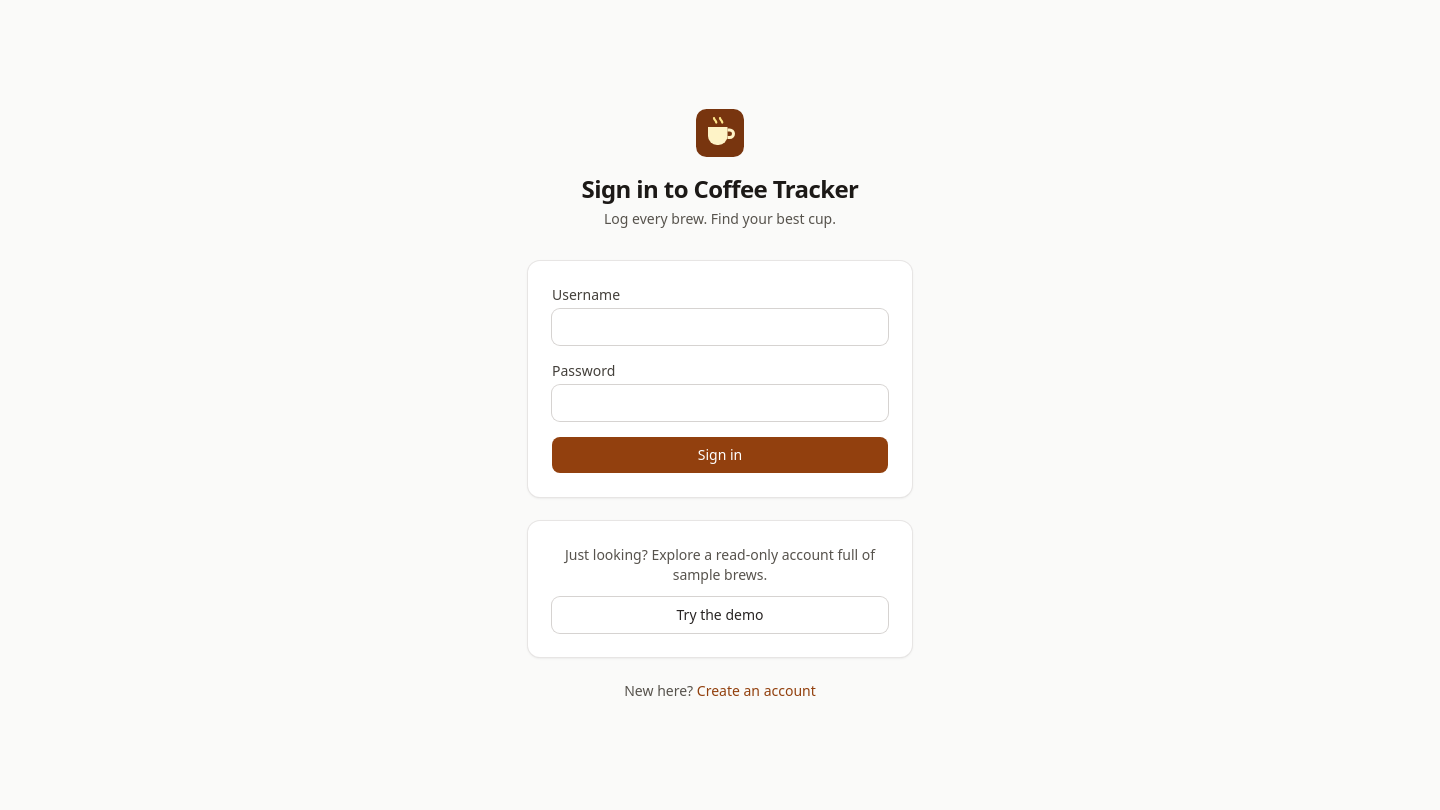
Test case: authentication › logs in, stores the token, and returns to the page originally requested
Type "alice" into the field labelled "Username" at [720, 327], box [552,309,888,345]
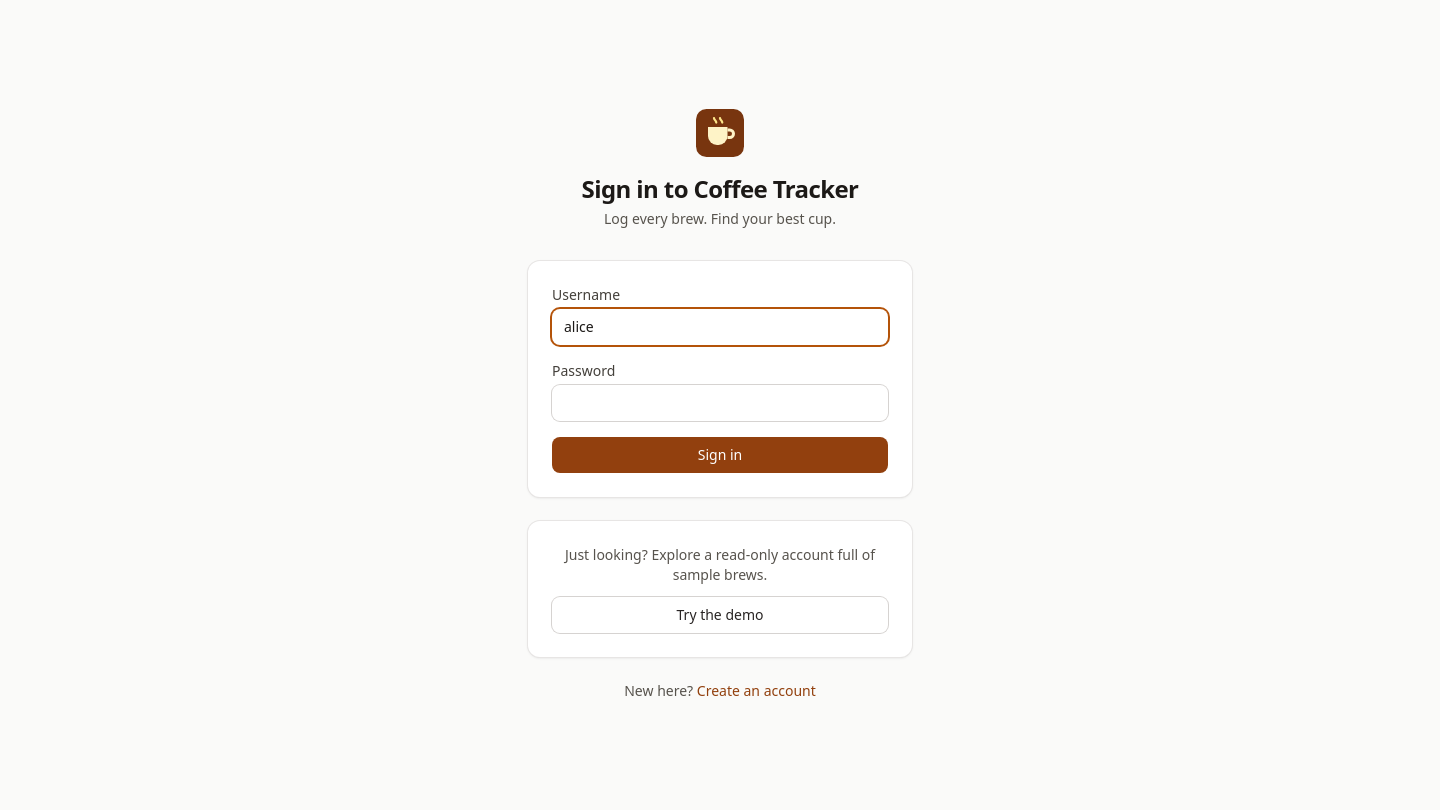
Type "correct-horse" into the password field labelled "Password" at [720, 403], box [552,385,888,421]
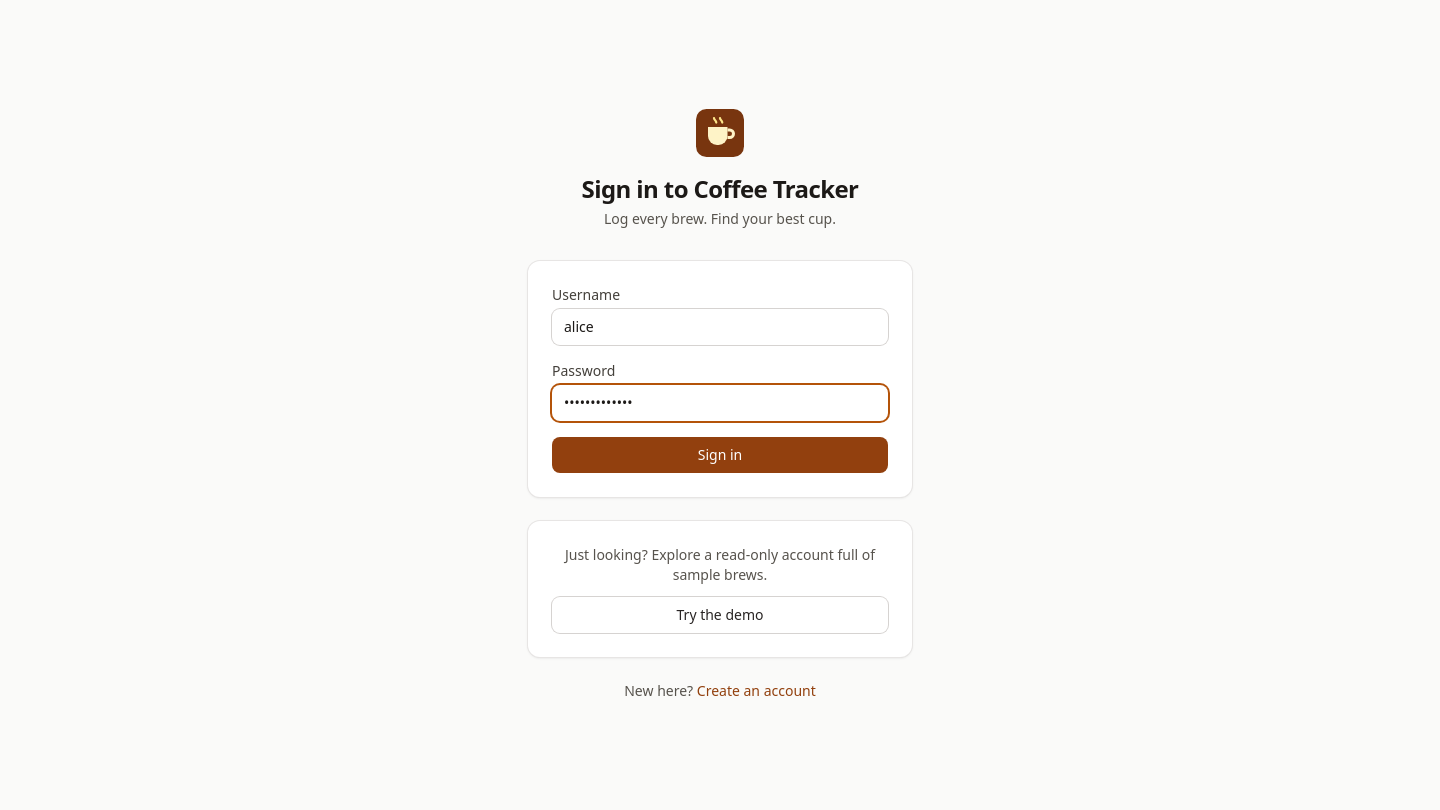
Click the button "Sign in" at [720, 455], box [552,437,888,473]
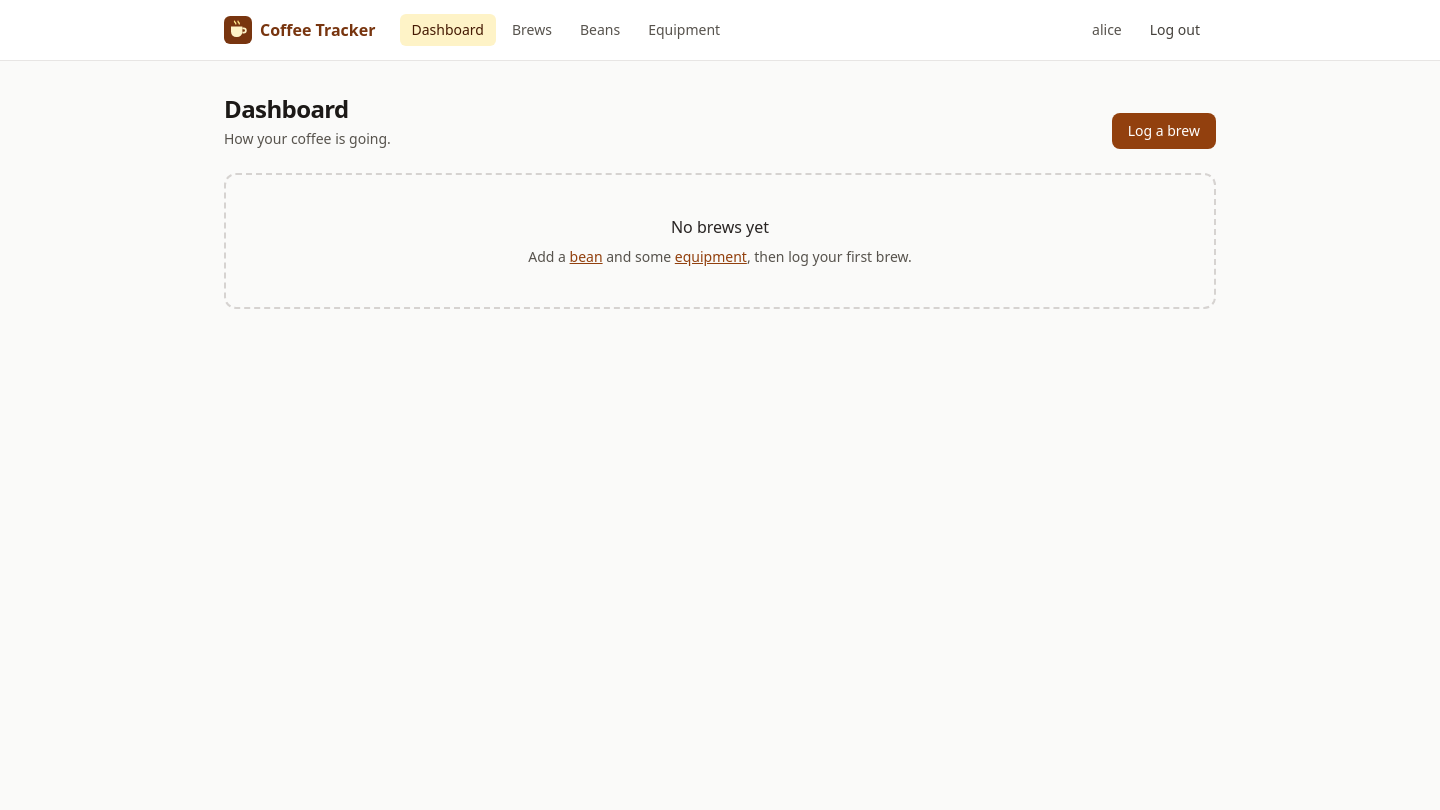
expect the heading "Dashboard" is shown: met, box [224,92,349,125]
